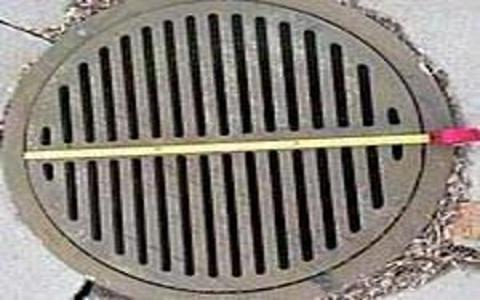proper manhole: (1, 2, 455, 296)
